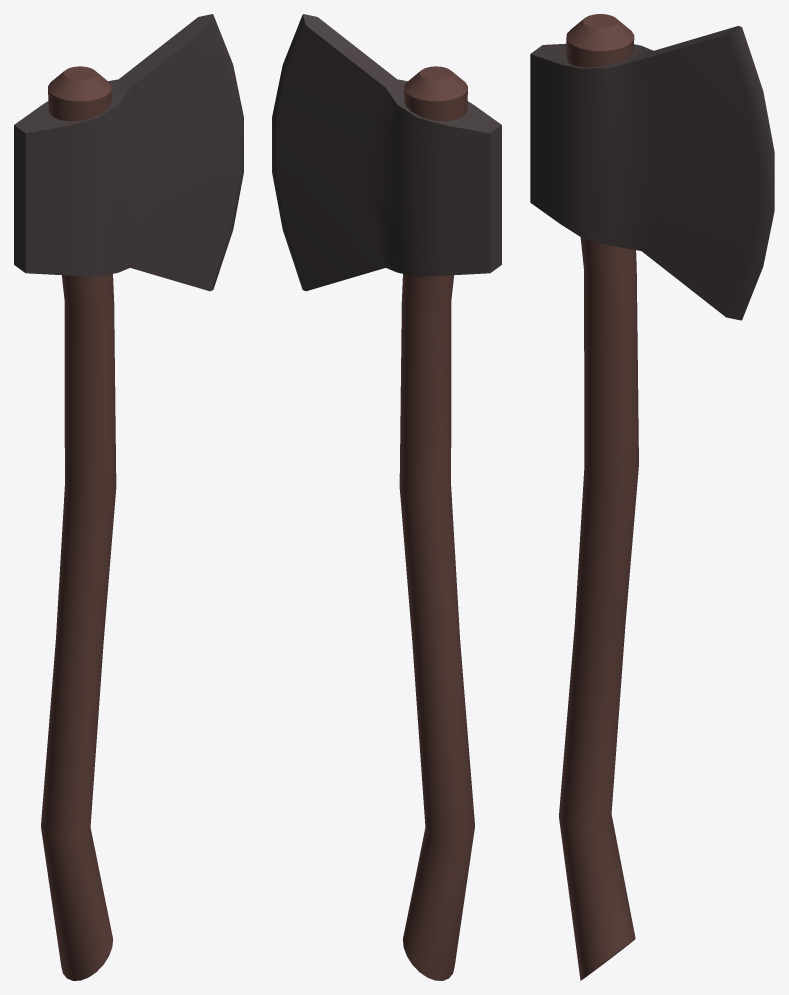
The model's file is Axe.fbx.
3 renders of one model, left to right at view 1: azimuth 30°, elevation 25°; view 2: azimuth 150°, elevation 25°; view 3: azimuth 330°, elevation 25°, orthographic. The views are drawn at different scales.
Parts seen in each view (by area): view 1: pCube8, pCylinder6; view 2: pCube8, pCylinder6; view 3: pCube8, pCylinder6.
Part boxes in pixels (bbox=[...]): pCube8: bbox=[14, 14, 243, 291]; pCylinder6: bbox=[41, 66, 116, 980]; pCube8: bbox=[272, 14, 501, 291]; pCylinder6: bbox=[399, 66, 474, 980]; pCube8: bbox=[530, 26, 774, 320]; pCylinder6: bbox=[559, 14, 638, 980].
Size of the model in its own units: 0.00229 by 0.00908 by 0.000629.
